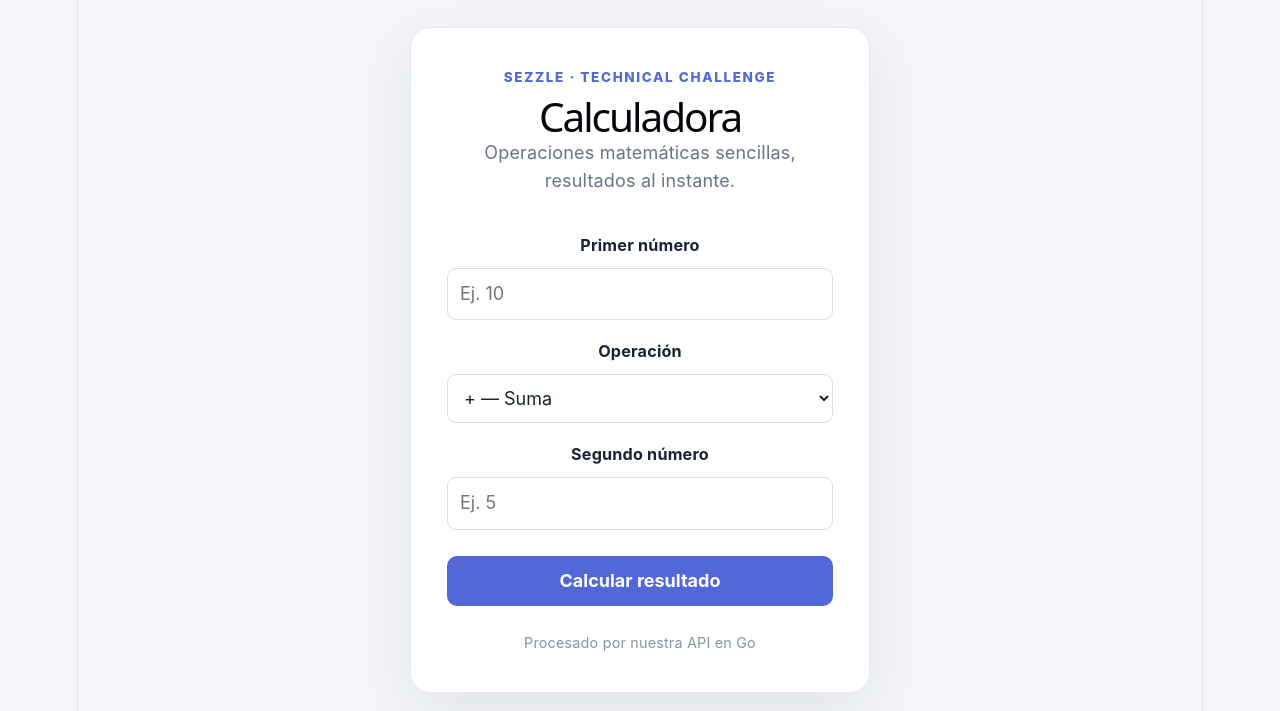
Scenario: Calculator › shows an error when the API cannot be reached
Step 1. Type "10" into the number field labelled "Primer número" → [640, 294], box [447,268,833,320]
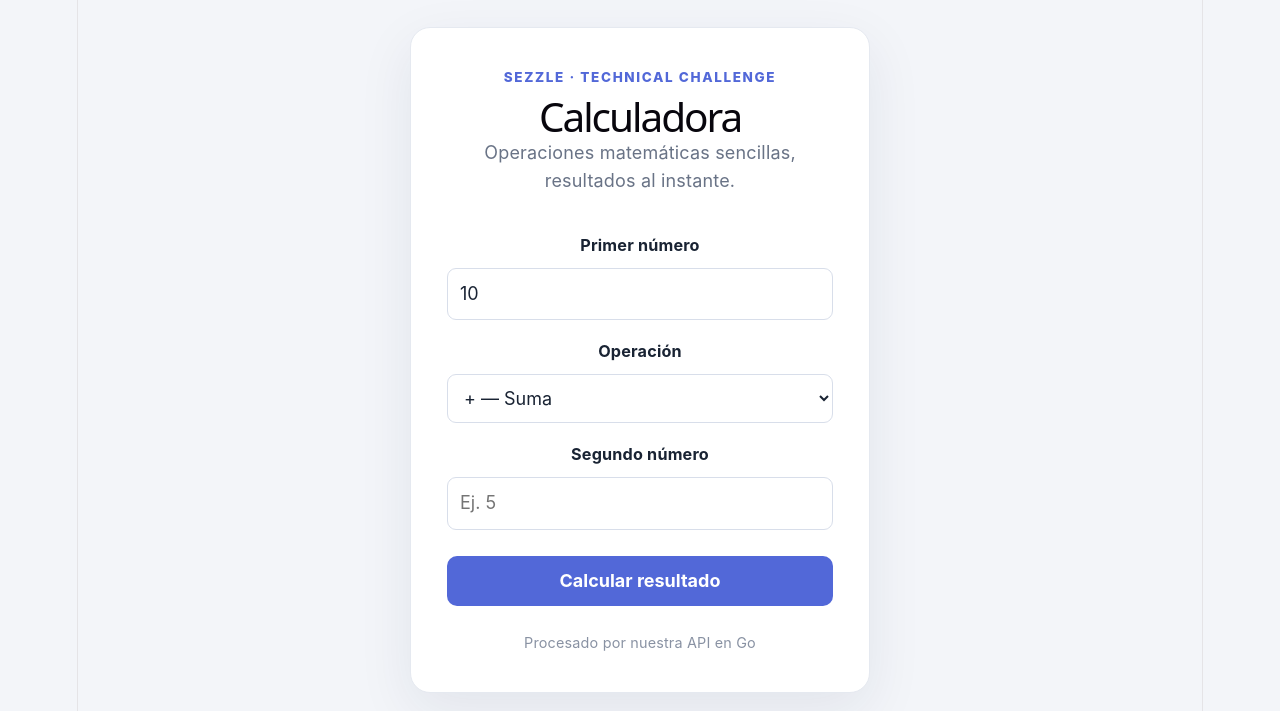
Step 2. Type "5" into the number field labelled "Segundo número" → [640, 504], box [447,478,833,530]
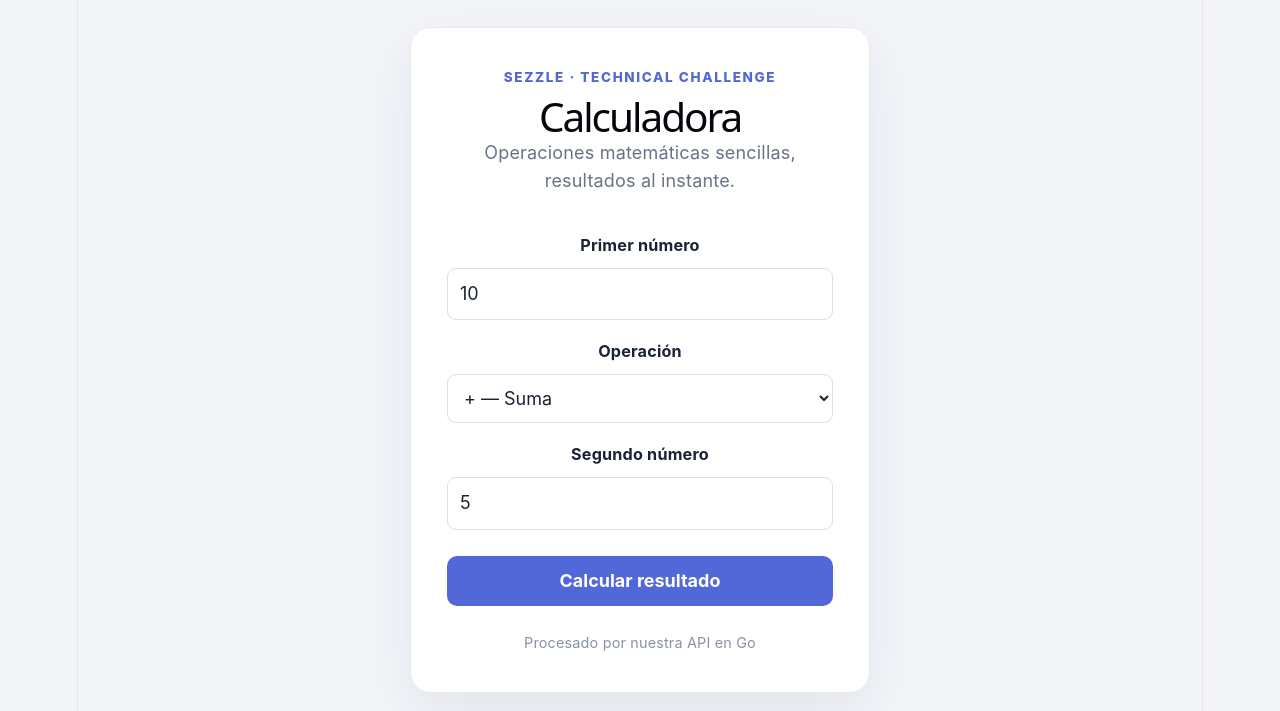
Step 3. Click the button "Calcular resultado" → [640, 581], box [447,556,833,606]
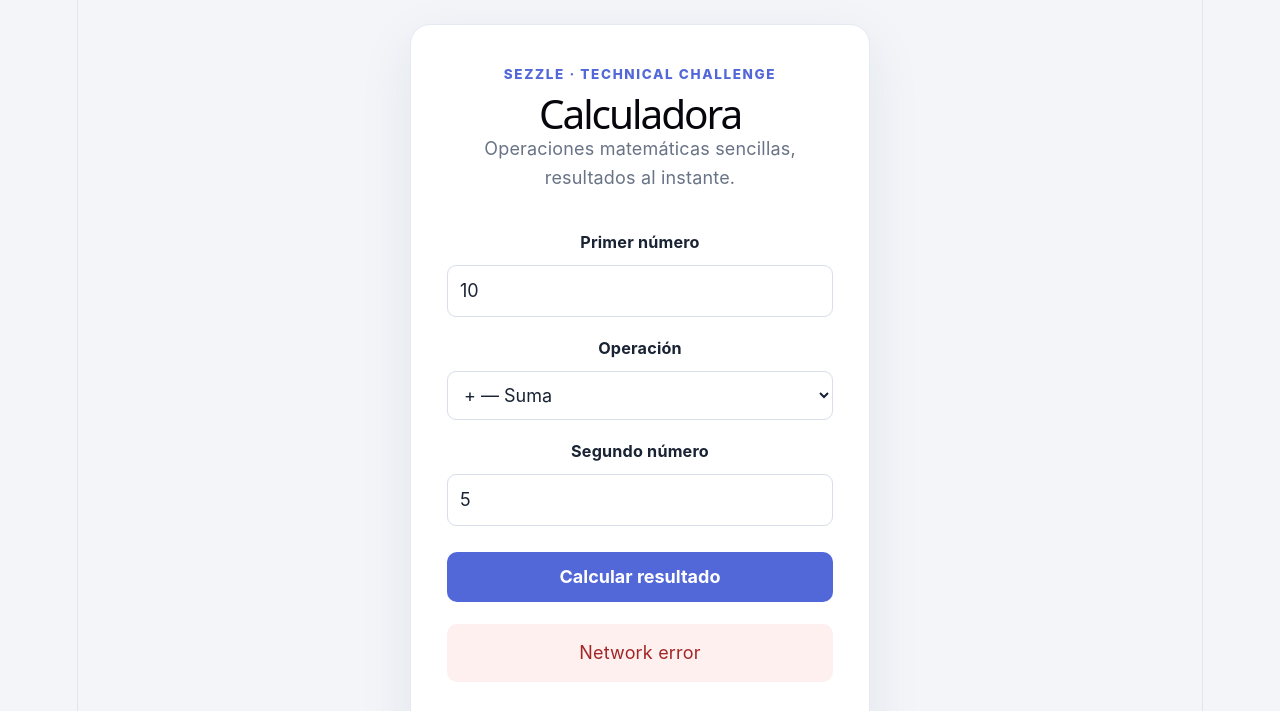
Result: the text "Network error" is shown at [447,624,833,682]
